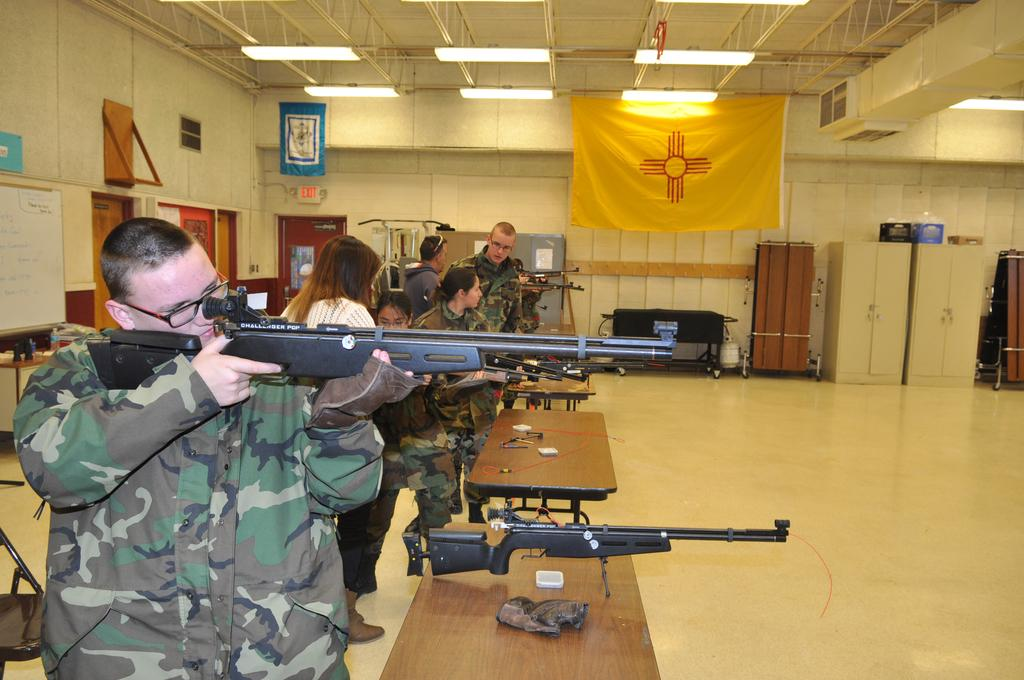Rifle: (83, 282, 676, 388), (399, 503, 796, 606)
